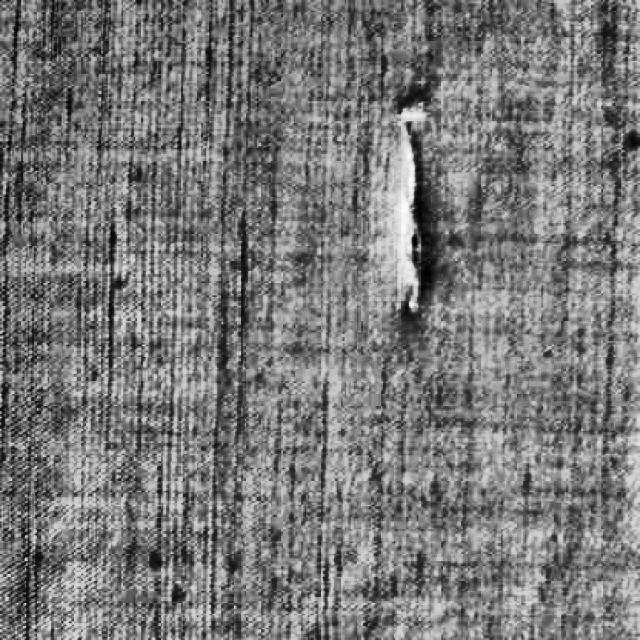hole: (381, 80, 458, 333)
